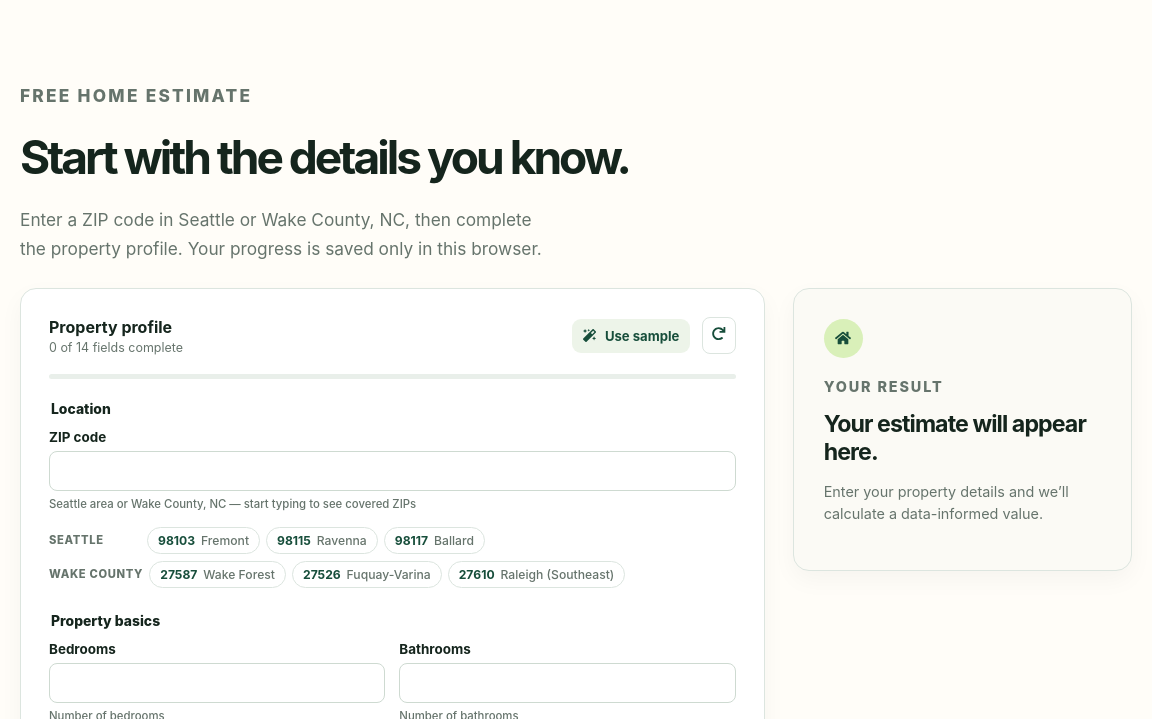
Test: shows the same validation message the API used to return
Click the button "Use sample" at (631, 336), box [572, 319, 690, 353]
(page scrolled)
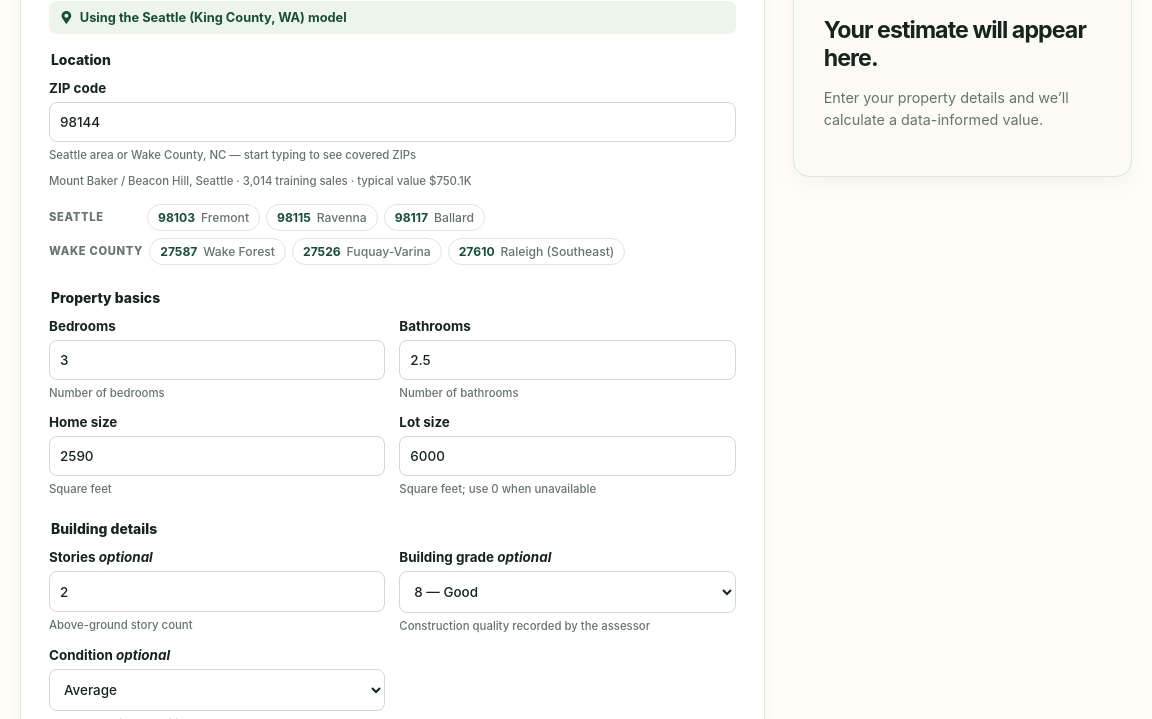
Replace the text in the number field labelled "Bedrooms Number of bedrooms" with "25" at (217, 360), box [49, 340, 385, 380]
(page scrolled)
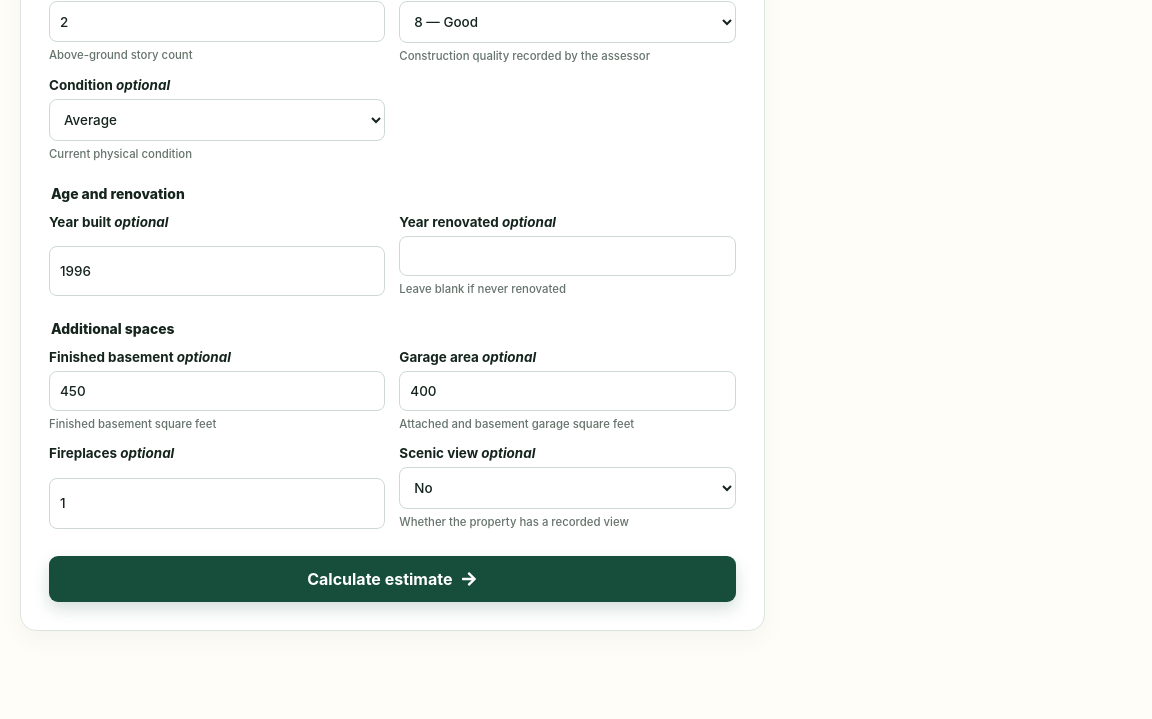
Click the button "Calculate estimate" at (392, 579), box [49, 556, 736, 602]
(page scrolled)
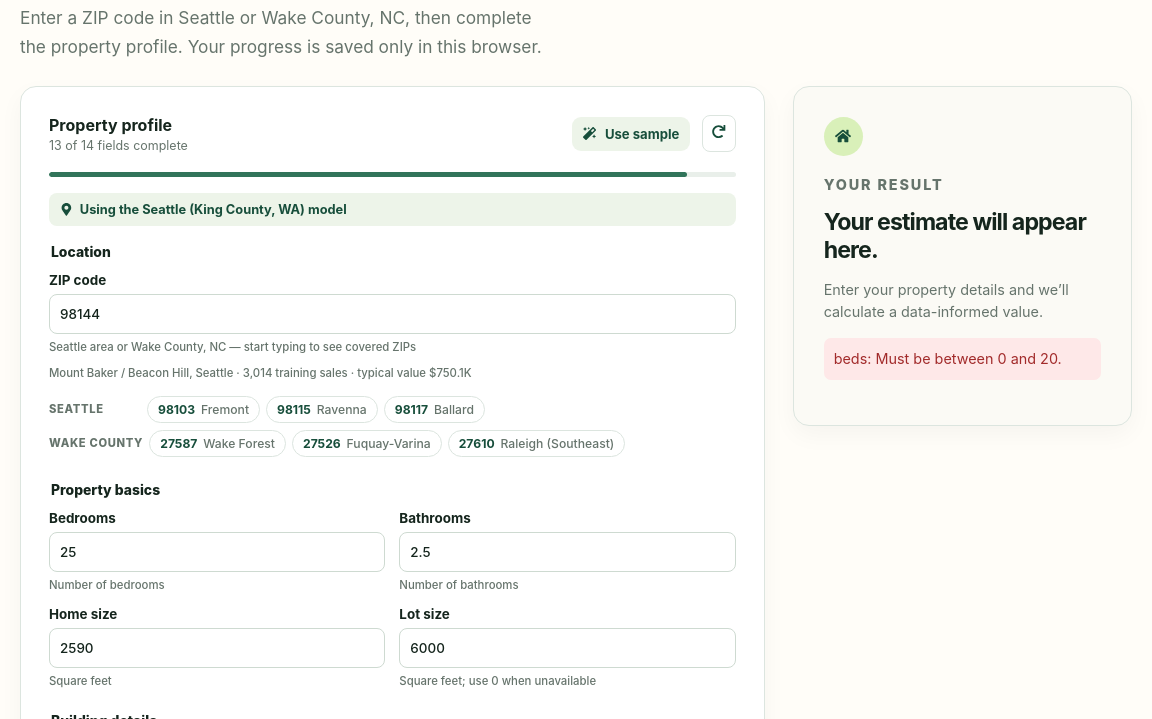
Now the message reads "beds: Must be between 0 and 20.", box [834, 350, 1062, 367]
